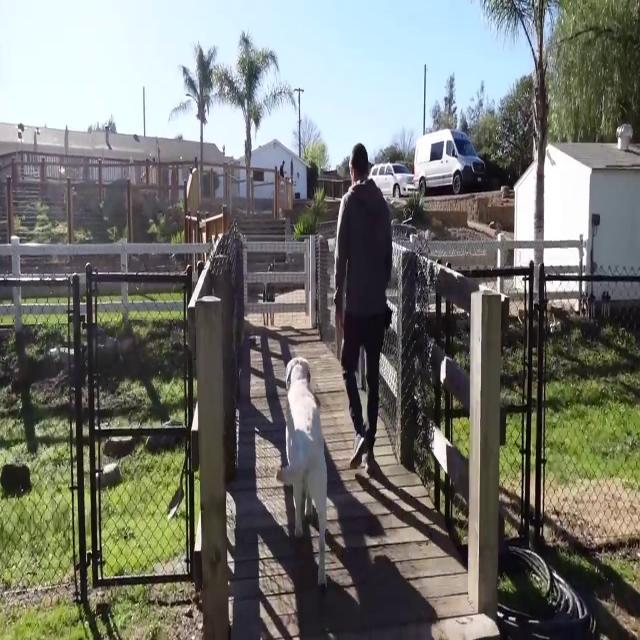Unleashed_Dog: (276, 317, 371, 591)
